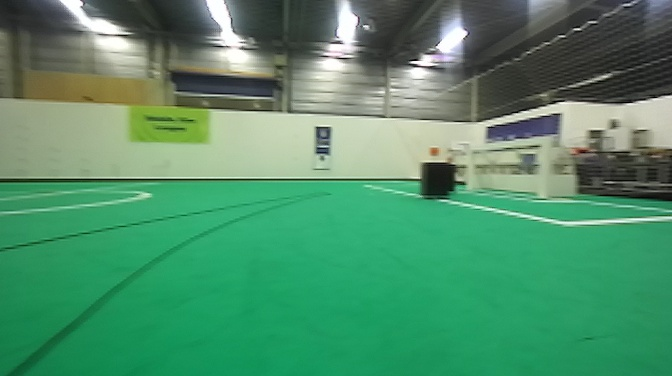goalpost: (530, 130, 549, 199), (463, 144, 476, 190)
